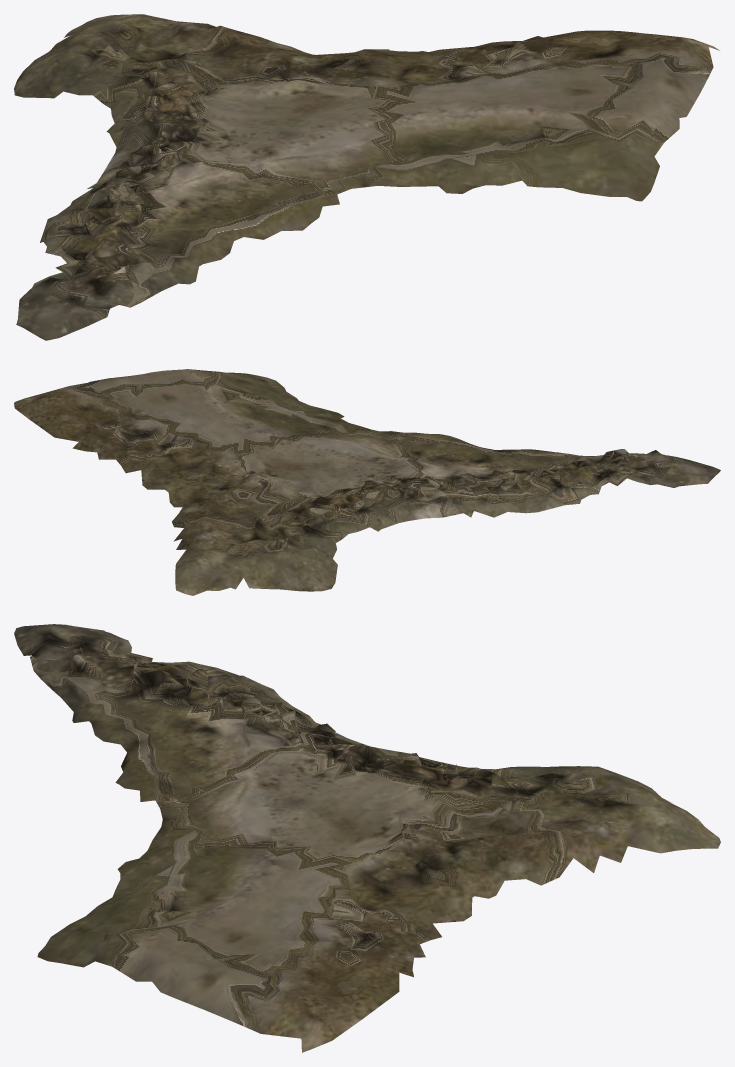
File: coast_rocks_01_lod2.glb
3 renders of one model, top to bottom at view 1: azimuth 30°, elevation 25°; view 2: azimuth 150°, elevation 25°; view 3: azimuth 270°, elevation 25°, orthographic. The views are drawn at different scales.
Visible parts, largest first — view 1: coast_rocks_01; view 2: coast_rocks_01; view 3: coast_rocks_01.
Part boxes in pixels (x1,y1,x2,y2): coast_rocks_01: (14, 14, 719, 340); coast_rocks_01: (14, 369, 720, 595); coast_rocks_01: (14, 624, 720, 1052).
Size of the model in its own units: 59.28 by 3.16 by 42.13.
1 material, 1 textured.
